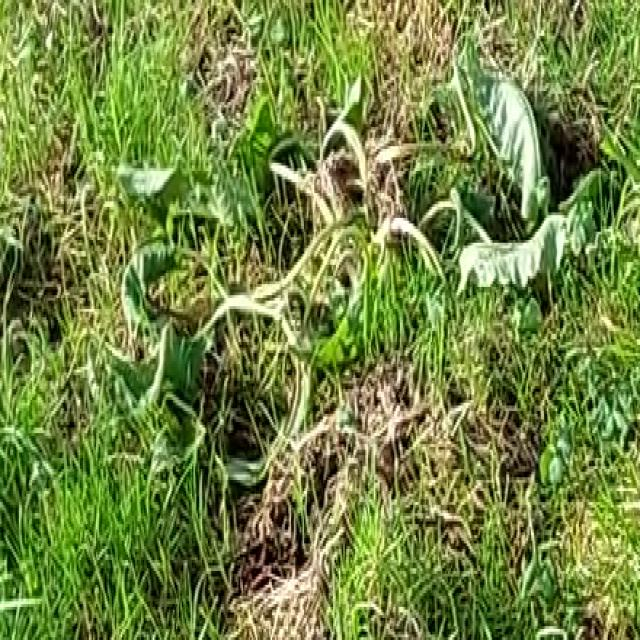organic waste: (93, 86, 596, 463)
